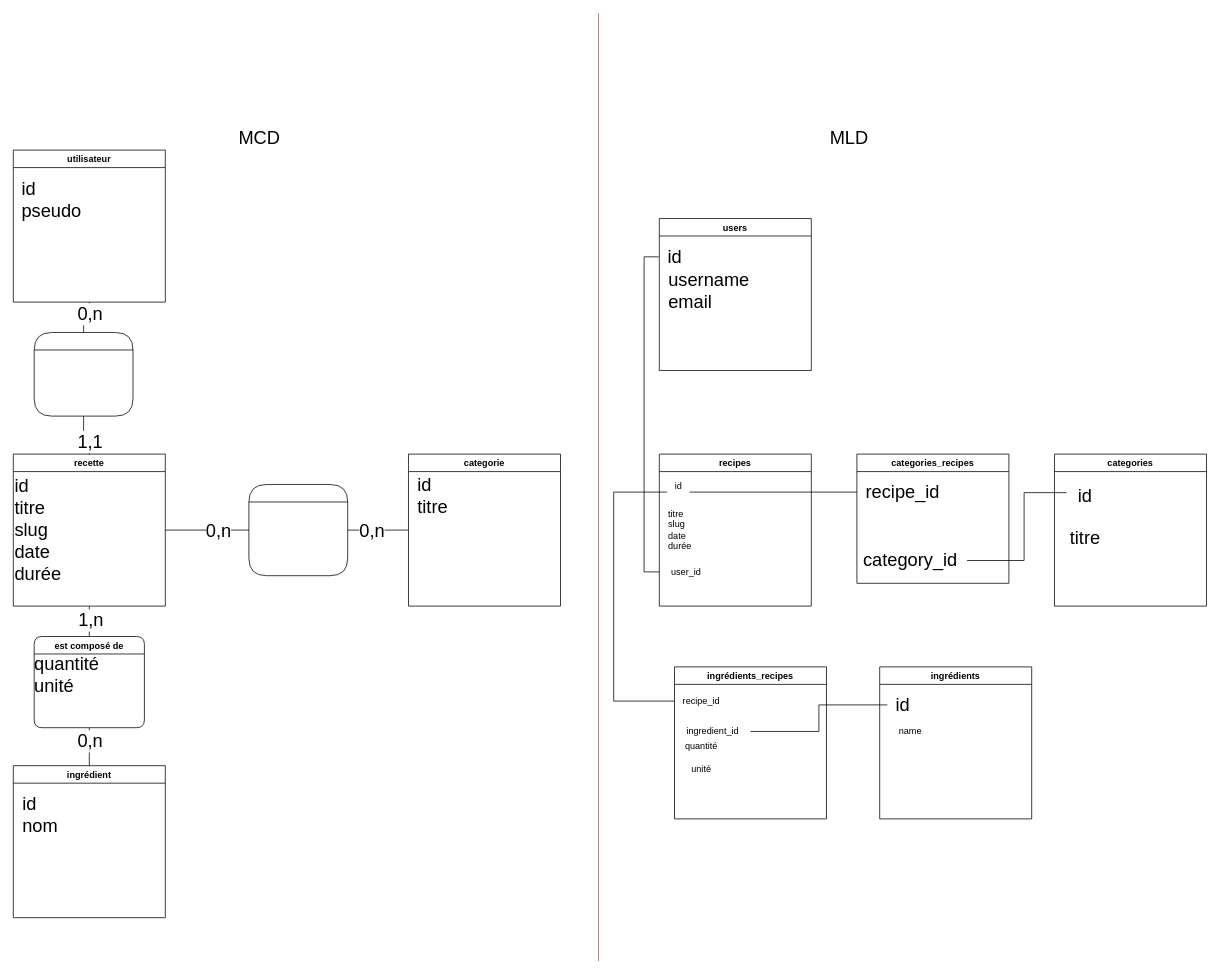
This 1220x976 diagram has some shape labels left out. Here are the shapes that lost their labels. From the top down, the centre of each, then its label:
point 83,374: créé
point 298,530: appartient
